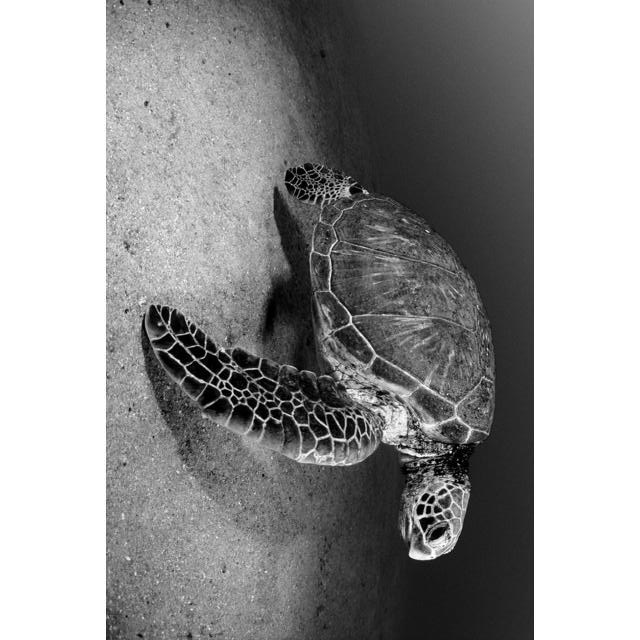turtle: (140, 161, 497, 564)
